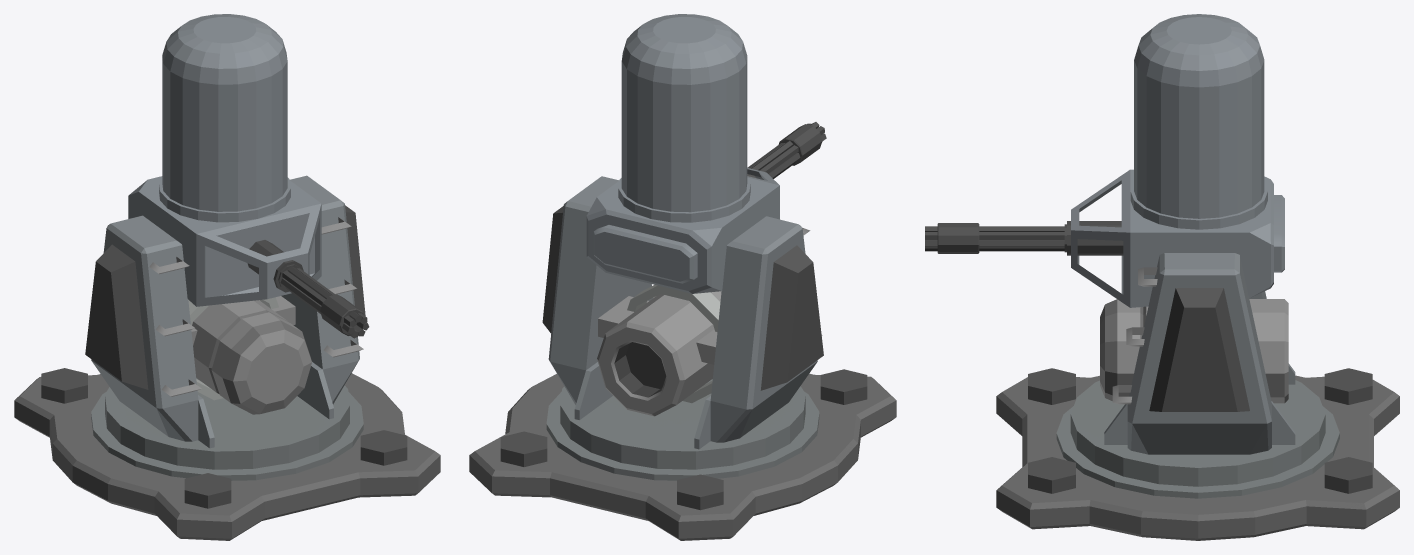
Rendered from model_polyfleet_battleship_phalanx02.fbx.
The picture shows the model from 3 angles, left to right: view 1: azimuth 30°, elevation 25°; view 2: azimuth 150°, elevation 25°; view 3: azimuth 270°, elevation 25°; orthographic projection. The views are drawn at different scales.
Visible parts, largest first — view 1: weapon_rotate, weapon_barrel_tilt, model_polyfleet_battleship_phalanx02, weapon_barrels; view 2: weapon_rotate, weapon_barrel_tilt, model_polyfleet_battleship_phalanx02, weapon_barrels; view 3: weapon_rotate, weapon_barrel_tilt, model_polyfleet_battleship_phalanx02, weapon_barrels.
Boxes of the visible parts, x1,y1,x2,y2 form: weapon_rotate: [85, 175, 365, 480]; weapon_barrel_tilt: [128, 14, 321, 306]; model_polyfleet_battleship_phalanx02: [14, 368, 440, 540]; weapon_barrels: [247, 240, 369, 338]; weapon_rotate: [542, 176, 823, 480]; weapon_barrel_tilt: [586, 14, 779, 293]; model_polyfleet_battleship_phalanx02: [469, 369, 896, 540]; weapon_barrels: [747, 122, 826, 178]; weapon_rotate: [1056, 253, 1339, 498]; weapon_barrel_tilt: [1071, 14, 1284, 307]; model_polyfleet_battleship_phalanx02: [996, 368, 1399, 540]; weapon_barrels: [925, 221, 1123, 255].
Size of the model in its own units: 371 by 480 by 477.
